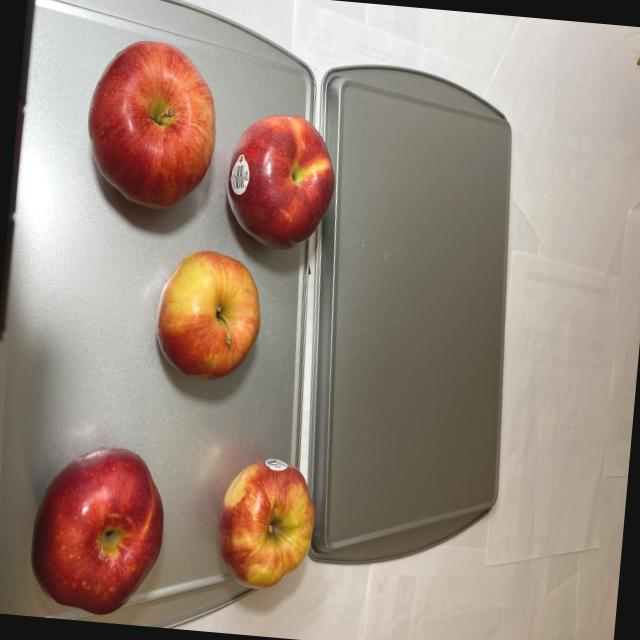apple: (54, 34, 347, 396), (20, 436, 175, 626), (212, 446, 321, 594)
